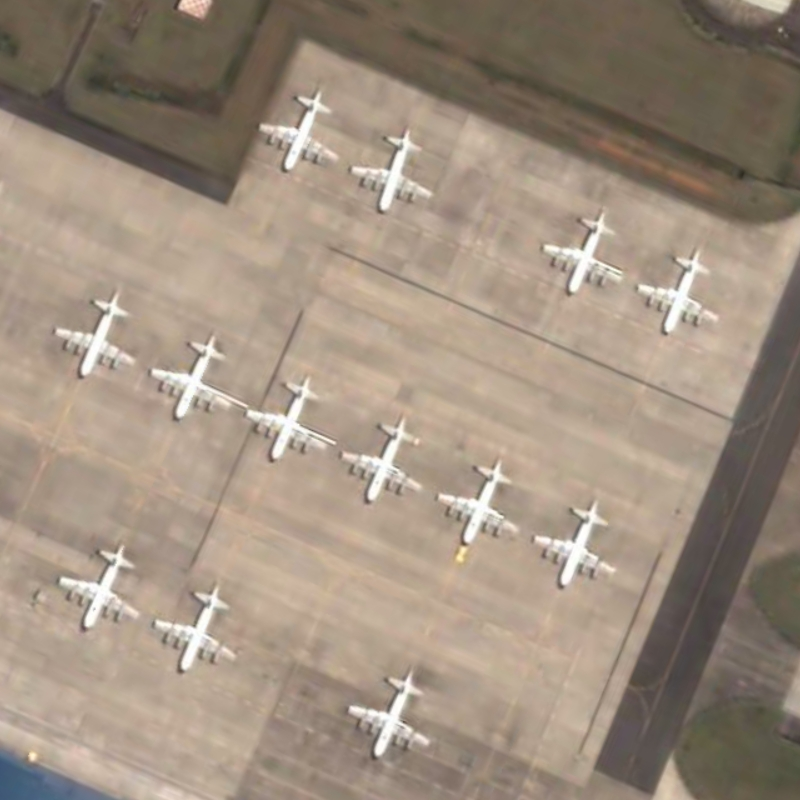A9: (148, 566, 241, 680), (146, 321, 242, 431), (428, 444, 522, 555), (48, 277, 144, 383), (528, 488, 620, 598), (534, 200, 630, 302), (332, 407, 426, 509), (343, 661, 436, 764), (632, 234, 720, 341), (53, 531, 143, 635), (347, 121, 439, 221), (250, 82, 341, 180), (242, 368, 329, 470)
